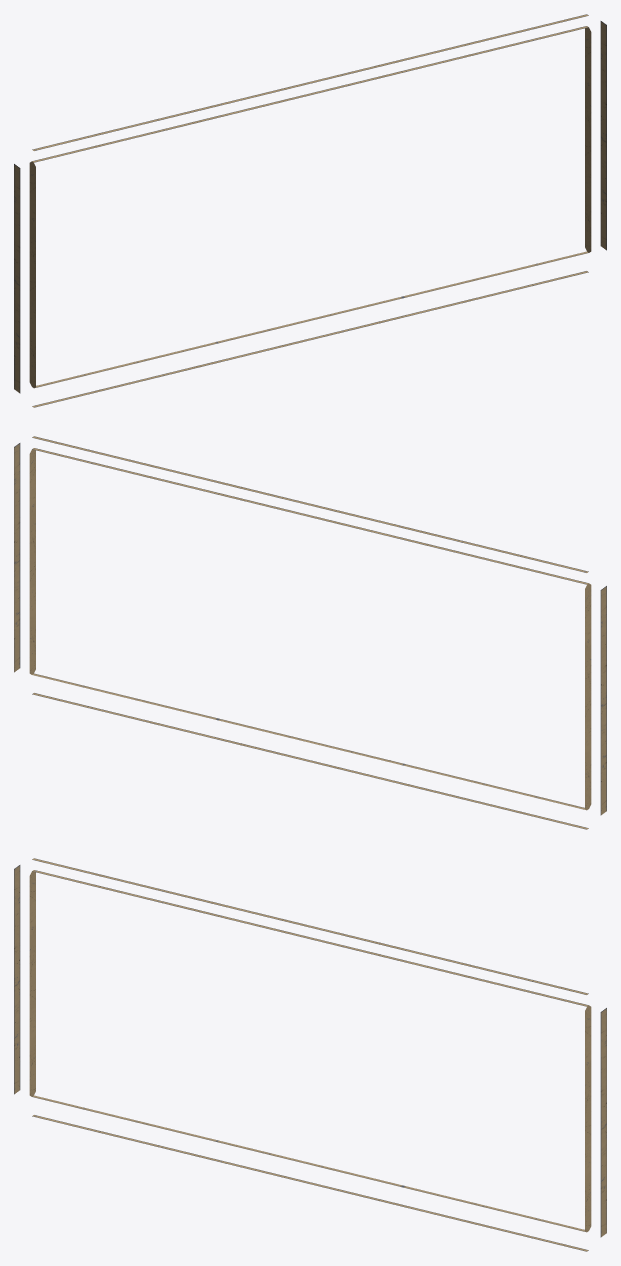
The model's file is CnFrameA2Con.fbx.
3 views of the same model, one above another, from view 1: azimuth 30°, elevation 25°; view 2: azimuth 150°, elevation 25°; view 3: azimuth 330°, elevation 25° (orthographic).
Parts seen in each view (by area): view 1: CnFrameA2Con; view 2: CnFrameA2Con; view 3: CnFrameA2Con.
Part boxes in pixels (box(x1,y1,x2,y2)): CnFrameA2Con: box(14, 14, 606, 407); CnFrameA2Con: box(14, 436, 606, 829); CnFrameA2Con: box(14, 858, 606, 1251).
Size of the model in its own units: 634 by 265 by 12.
